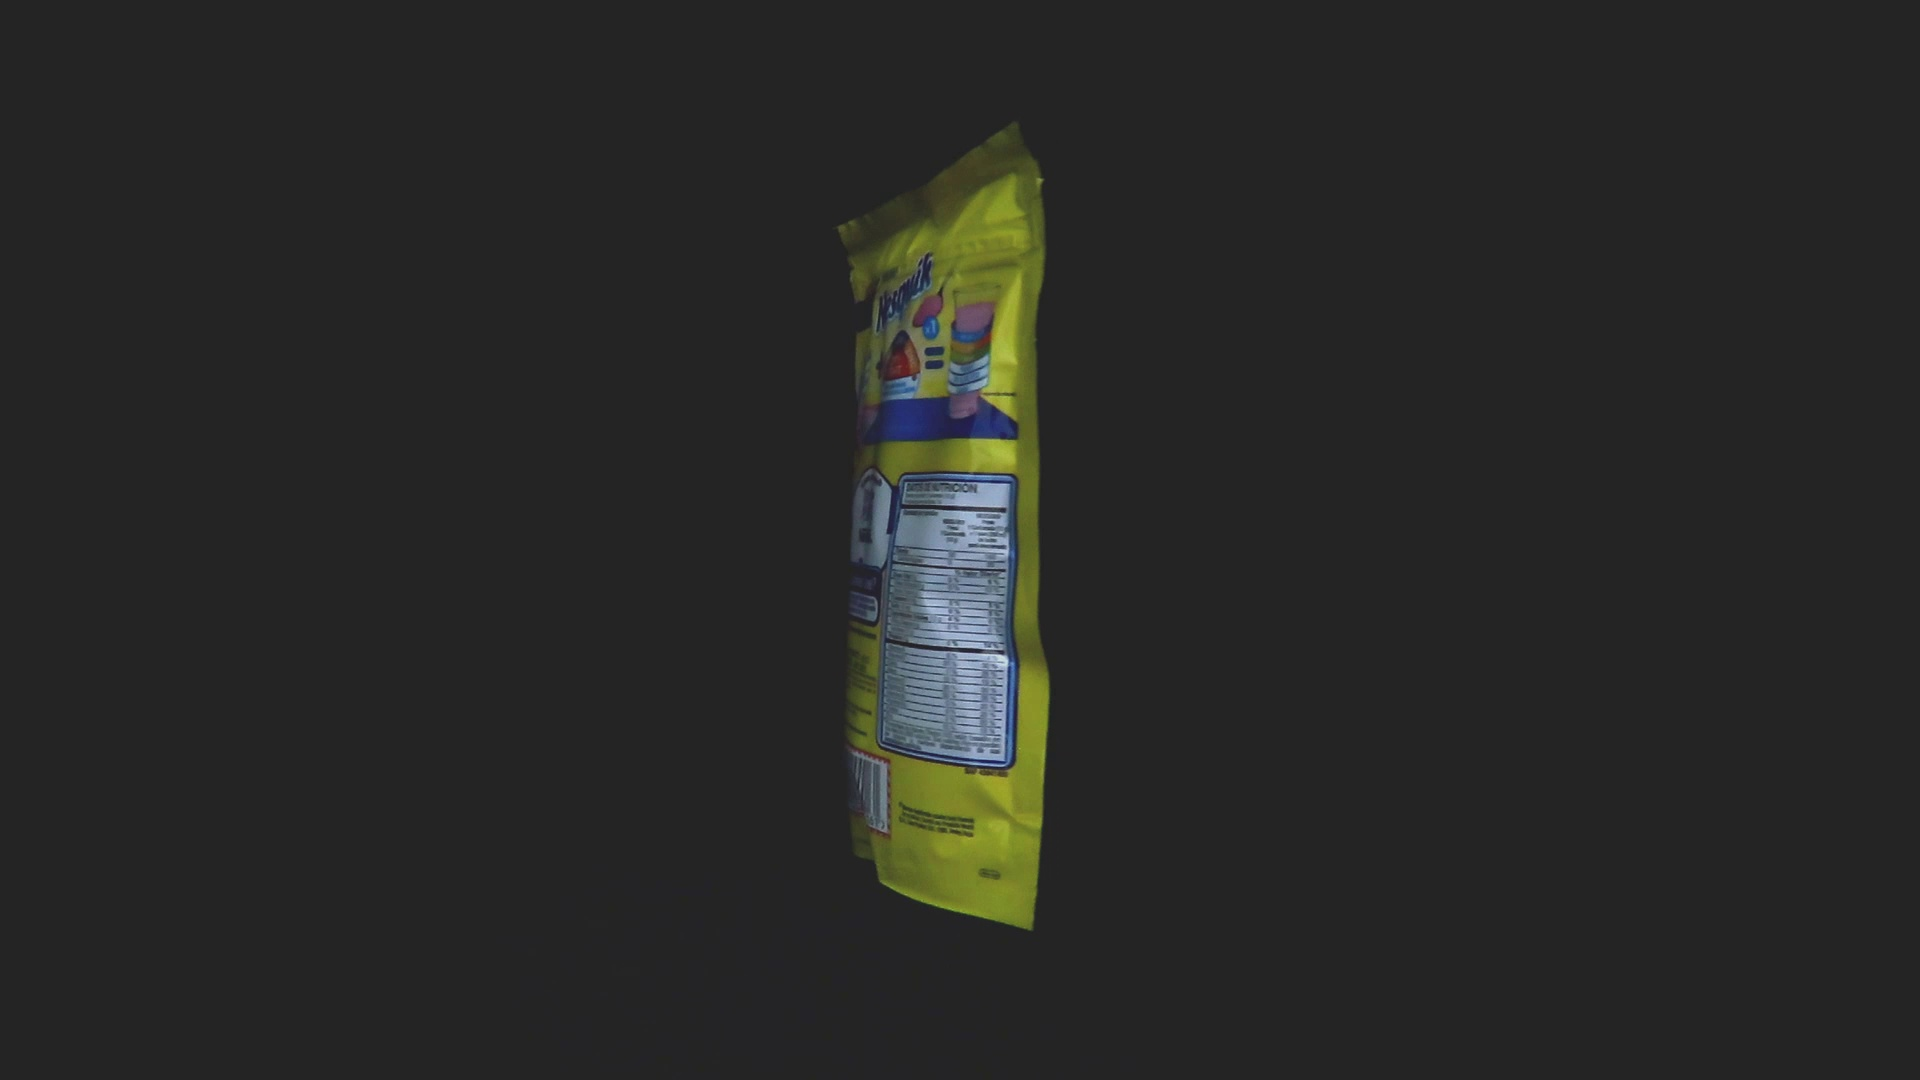COL0170305DYP20000: (843, 140, 1056, 938)
